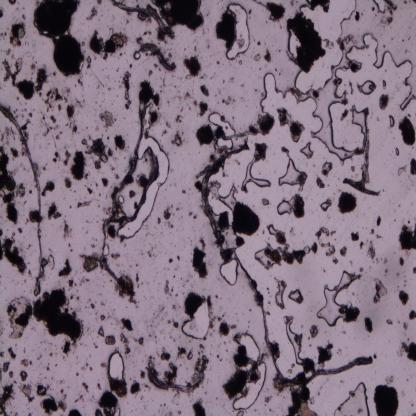Air bubble: (332, 0, 416, 110), (116, 134, 170, 240), (293, 76, 353, 162), (317, 270, 353, 327), (232, 364, 268, 412), (255, 71, 289, 116), (227, 3, 251, 61), (333, 382, 371, 416), (181, 300, 211, 341), (241, 159, 272, 191), (277, 158, 307, 190), (286, 316, 304, 365), (234, 332, 261, 362), (209, 111, 236, 137), (254, 242, 276, 271), (217, 183, 238, 212), (219, 259, 239, 286), (107, 351, 125, 380), (286, 27, 301, 58), (350, 106, 366, 135), (274, 278, 286, 309), (276, 198, 294, 215), (359, 77, 376, 94), (288, 287, 304, 304), (299, 141, 313, 159), (216, 138, 234, 150), (266, 223, 278, 237), (319, 199, 331, 211), (102, 245, 111, 256), (389, 112, 395, 128), (118, 195, 125, 206), (394, 147, 401, 156), (135, 52, 141, 60)
Background material: (33, 1, 85, 76), (31, 286, 84, 344), (284, 9, 326, 72), (152, 1, 204, 30), (1, 59, 35, 100), (89, 27, 128, 62), (6, 295, 32, 342), (221, 368, 260, 399), (278, 106, 306, 144), (81, 134, 109, 170), (232, 200, 260, 236), (0, 238, 26, 274), (316, 226, 340, 264), (372, 383, 399, 416), (216, 10, 237, 52), (289, 386, 318, 415), (94, 389, 121, 416), (138, 78, 162, 106), (397, 113, 416, 148), (0, 146, 13, 196), (117, 274, 137, 303), (262, 1, 287, 23), (0, 383, 16, 415), (400, 221, 416, 253), (2, 192, 18, 224), (184, 290, 204, 315), (41, 396, 68, 414), (338, 188, 356, 215), (397, 338, 416, 363), (71, 151, 86, 182), (372, 275, 388, 304), (122, 70, 133, 112), (340, 303, 361, 324), (285, 246, 307, 266), (8, 23, 26, 47), (184, 56, 202, 79), (46, 88, 64, 111), (258, 114, 275, 138), (383, 0, 398, 27), (197, 125, 214, 148), (162, 361, 178, 384), (17, 382, 35, 402), (109, 380, 129, 398), (34, 69, 46, 98), (206, 295, 216, 329), (57, 258, 74, 278), (98, 110, 115, 129), (317, 344, 333, 364), (306, 0, 330, 13), (175, 344, 193, 361), (0, 126, 17, 144), (40, 180, 56, 198), (191, 398, 207, 416), (293, 193, 305, 217), (47, 202, 61, 222), (162, 204, 173, 229), (120, 314, 134, 333), (62, 218, 73, 242), (120, 332, 131, 356), (177, 90, 190, 110), (338, 34, 354, 50), (280, 142, 294, 160), (351, 263, 364, 282), (32, 274, 42, 298), (82, 258, 98, 273), (267, 248, 282, 264), (398, 288, 409, 309), (35, 383, 51, 397), (303, 356, 315, 374), (129, 378, 141, 396), (114, 134, 126, 152), (62, 338, 73, 357), (148, 110, 161, 126), (86, 6, 98, 23), (366, 240, 376, 260), (277, 233, 288, 251), (379, 92, 390, 110), (194, 266, 209, 279), (255, 145, 266, 162), (304, 243, 318, 256), (364, 314, 374, 332), (160, 347, 171, 363), (145, 244, 156, 260), (14, 57, 24, 74), (6, 346, 18, 360), (408, 156, 416, 177), (196, 340, 205, 358), (161, 122, 171, 138), (198, 101, 208, 117), (236, 36, 246, 52), (395, 164, 407, 177), (173, 132, 184, 146), (80, 362, 94, 373), (219, 322, 230, 336), (316, 175, 327, 189), (107, 225, 117, 240), (310, 325, 320, 340), (17, 183, 27, 198), (166, 319, 179, 330), (139, 174, 149, 188), (199, 84, 209, 98), (66, 408, 83, 416), (67, 102, 75, 119), (84, 55, 93, 70), (349, 61, 361, 72), (105, 334, 116, 346), (109, 250, 122, 260), (264, 48, 272, 64), (339, 244, 348, 258), (78, 199, 92, 208), (2, 360, 11, 374), (350, 229, 359, 243), (64, 149, 71, 167), (223, 95, 233, 107), (80, 380, 90, 392), (248, 125, 258, 137), (171, 392, 180, 405), (195, 178, 204, 191), (19, 370, 28, 383), (97, 326, 105, 340), (385, 374, 395, 385), (101, 176, 110, 188), (22, 119, 31, 131), (54, 130, 63, 142), (385, 318, 395, 328), (10, 148, 20, 158), (312, 89, 321, 100), (18, 358, 29, 367), (74, 79, 86, 87), (64, 178, 72, 190), (74, 394, 84, 403), (213, 58, 222, 68), (188, 211, 198, 220), (260, 197, 270, 206), (408, 309, 416, 320), (253, 53, 261, 64), (138, 335, 145, 347), (0, 30, 7, 42), (52, 150, 58, 164), (398, 256, 405, 268), (127, 175, 136, 184), (164, 278, 169, 294), (402, 320, 410, 330), (354, 9, 360, 22), (199, 236, 205, 249), (99, 312, 106, 323), (358, 240, 365, 251), (376, 213, 381, 228), (86, 186, 94, 195), (128, 190, 137, 198), (3, 48, 12, 56), (68, 278, 75, 288), (89, 302, 96, 312), (0, 6, 5, 20), (72, 124, 78, 135), (50, 113, 56, 124), (411, 264, 416, 277), (100, 362, 108, 370), (139, 370, 146, 379), (8, 369, 14, 379), (8, 0, 18, 6), (384, 264, 390, 274), (192, 98, 198, 108), (107, 149, 114, 157), (43, 129, 50, 137), (17, 226, 24, 234), (176, 114, 183, 122), (30, 63, 36, 72), (350, 164, 356, 173), (92, 342, 98, 350), (96, 0, 104, 6), (0, 350, 5, 359), (46, 362, 50, 372), (176, 253, 181, 261), (37, 353, 41, 362), (76, 370, 80, 378), (168, 258, 173, 264), (181, 189, 186, 195), (97, 383, 101, 390), (0, 228, 3, 236), (29, 112, 33, 118)
Cellulose filter fibre: (201, 150, 282, 381), (96, 102, 150, 287), (0, 103, 45, 275), (113, 146, 160, 224), (342, 106, 381, 198), (276, 354, 374, 388), (144, 358, 206, 391), (112, 0, 170, 33), (80, 252, 121, 284), (139, 38, 176, 72)
Diatom: (29, 209, 40, 224), (7, 179, 15, 191)
Fragment: (191, 249, 206, 268), (218, 213, 230, 232), (236, 236, 245, 247)
